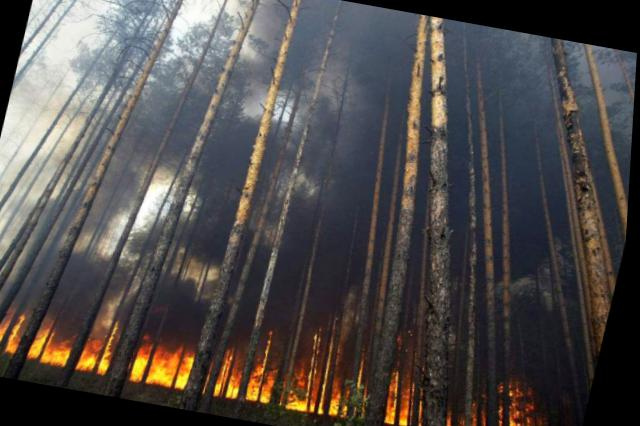fire: (0, 287, 581, 423)
